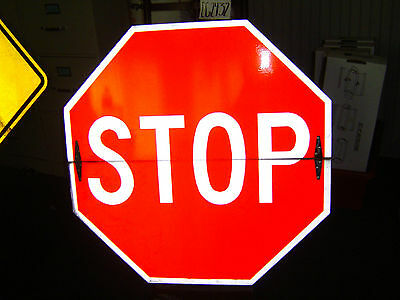stop: (67, 26, 325, 280)
